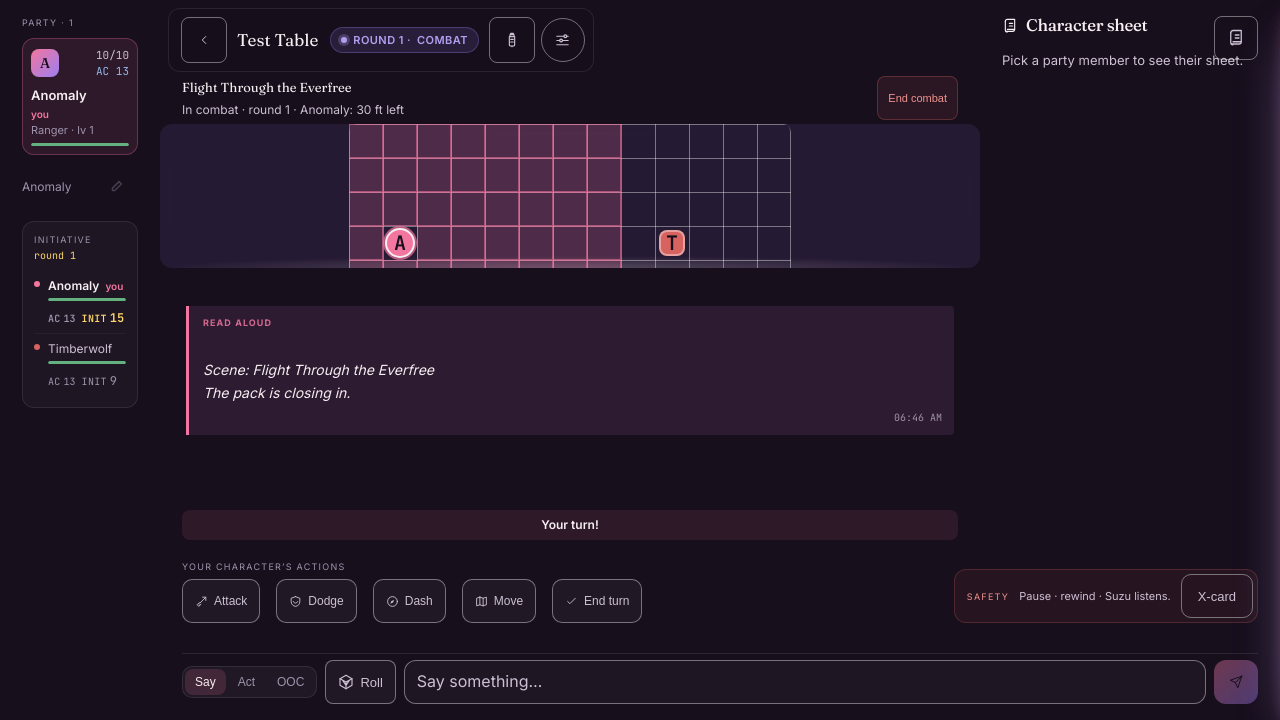
Test: the sentinel pin (Kuro 1): a DM's payload puts no DM-only string anywhere in the stage's DOM › after the user chooses a FOE's square: the `cell` line names the foe and still carries none of them
Expected: the text "Test Table" is shown, [237,27,318,53]
Expected: the text "In combat · round 1 · Anomaly: 30 ft left" is shown, [182,102,404,116]
Click the cell "T".
click(672, 243)  # box [659,230,685,256]
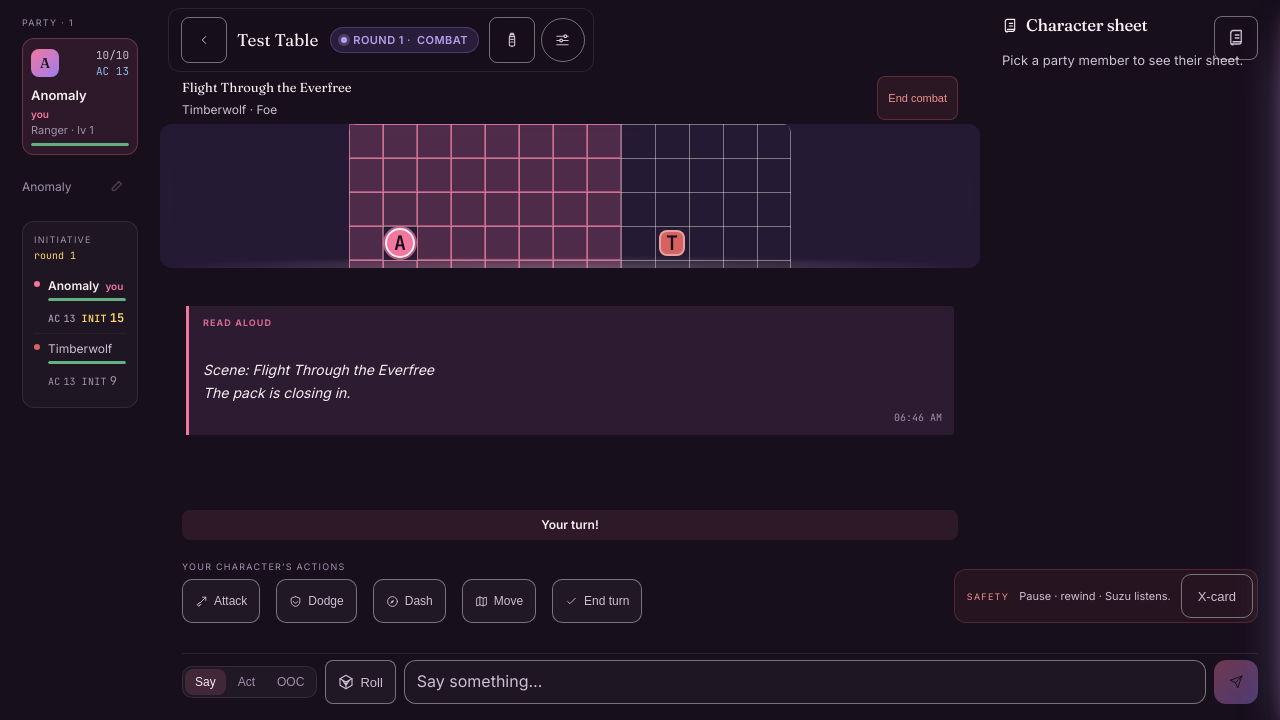
Result: the text "Timberwolf · Foe" is shown at [182,102,277,116]
